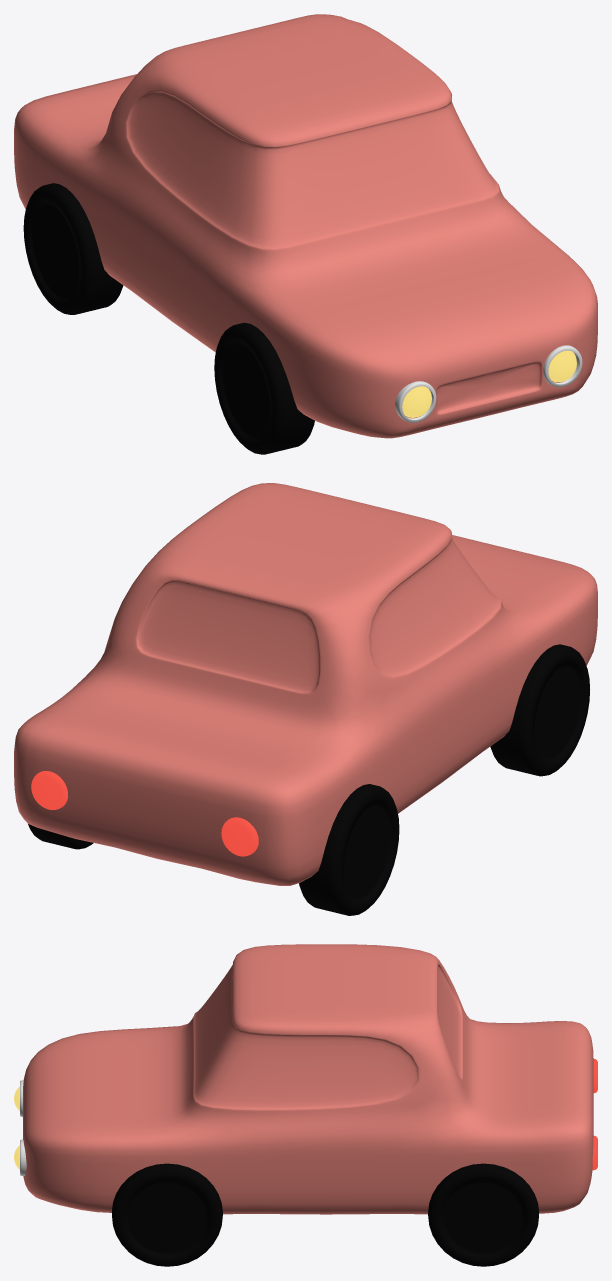
File: car(NoFloor).glb
The picture shows the model from 3 angles, top to bottom: view 1: azimuth 30°, elevation 25°; view 2: azimuth 150°, elevation 25°; view 3: azimuth 270°, elevation 25°; orthographic projection. The views are drawn at different scales.
Parts seen in each view (by area): view 1: Car, Tire, CarLight, Frame; view 2: Car, Tire, BackLight; view 3: Car, Tire.
Part boxes in pixels (x1,y1,x2,y2): Car: (14, 14, 597, 438); Tire: (23, 183, 314, 454); CarLight: (402, 350, 576, 417); Frame: (395, 345, 582, 422); Car: (14, 483, 597, 885); Tire: (28, 644, 589, 915); BackLight: (31, 771, 258, 856); Car: (23, 944, 593, 1214); Tire: (112, 1163, 538, 1266).
Size of the model in its own units: 2.17 by 1.76 by 4.2.
